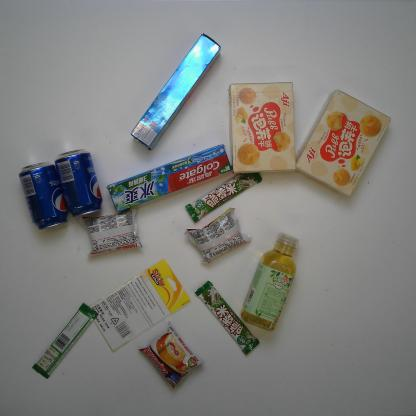Chocolate: (31, 303, 98, 380), (194, 280, 260, 355), (184, 162, 262, 221)
Dessert: (294, 90, 391, 196), (230, 82, 295, 174), (137, 322, 204, 390), (184, 207, 252, 262), (77, 205, 143, 257)
Drink: (240, 233, 299, 332), (54, 149, 103, 218), (19, 160, 67, 230)
Personal Hygiene: (131, 33, 221, 151), (106, 144, 233, 212)
Stationery: (86, 258, 191, 352)
